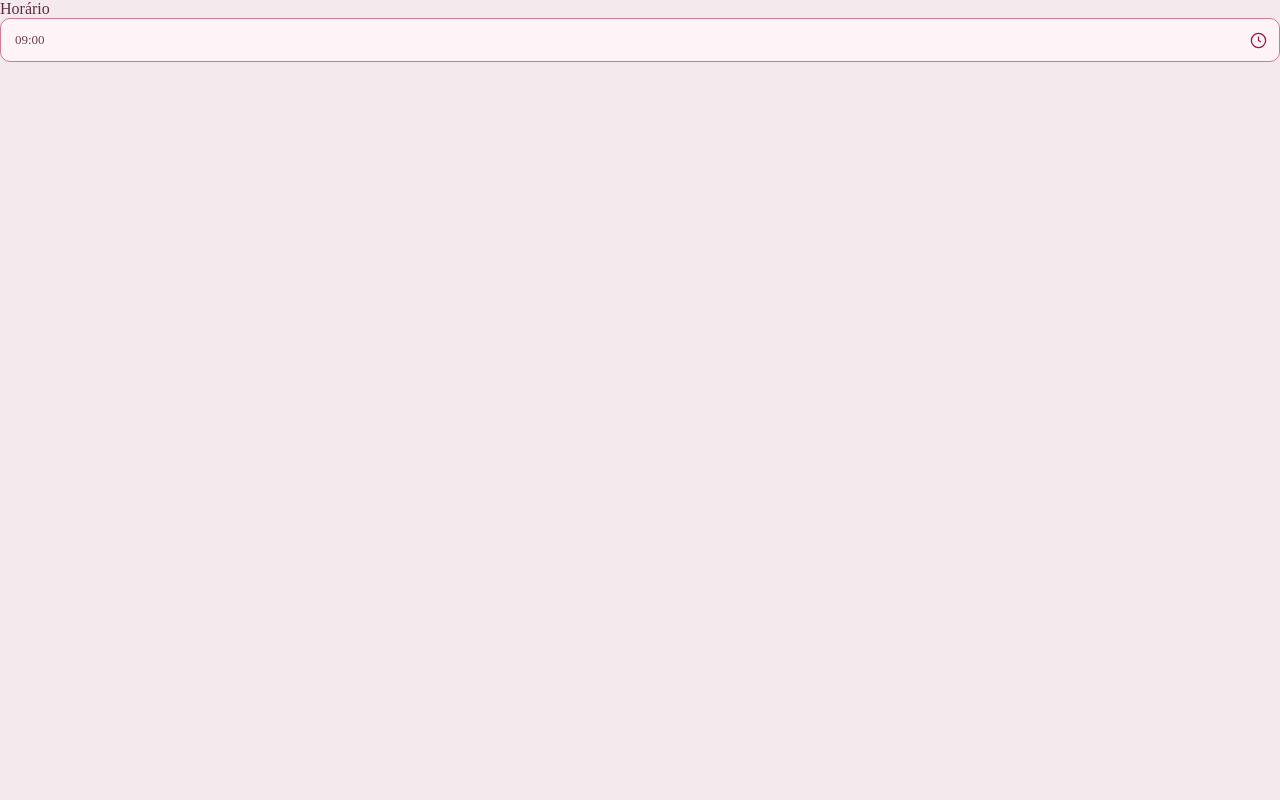
Test: time picker enforces min/max and step while retaining the existing time change handler
The width and height of the screenshot is (1280, 800).
Later steps or results of the test are not shown.
Click the button with class "salon-temporal-open" at x=1258, y=40, box [1239,21,1277,59]
(page scrolled)
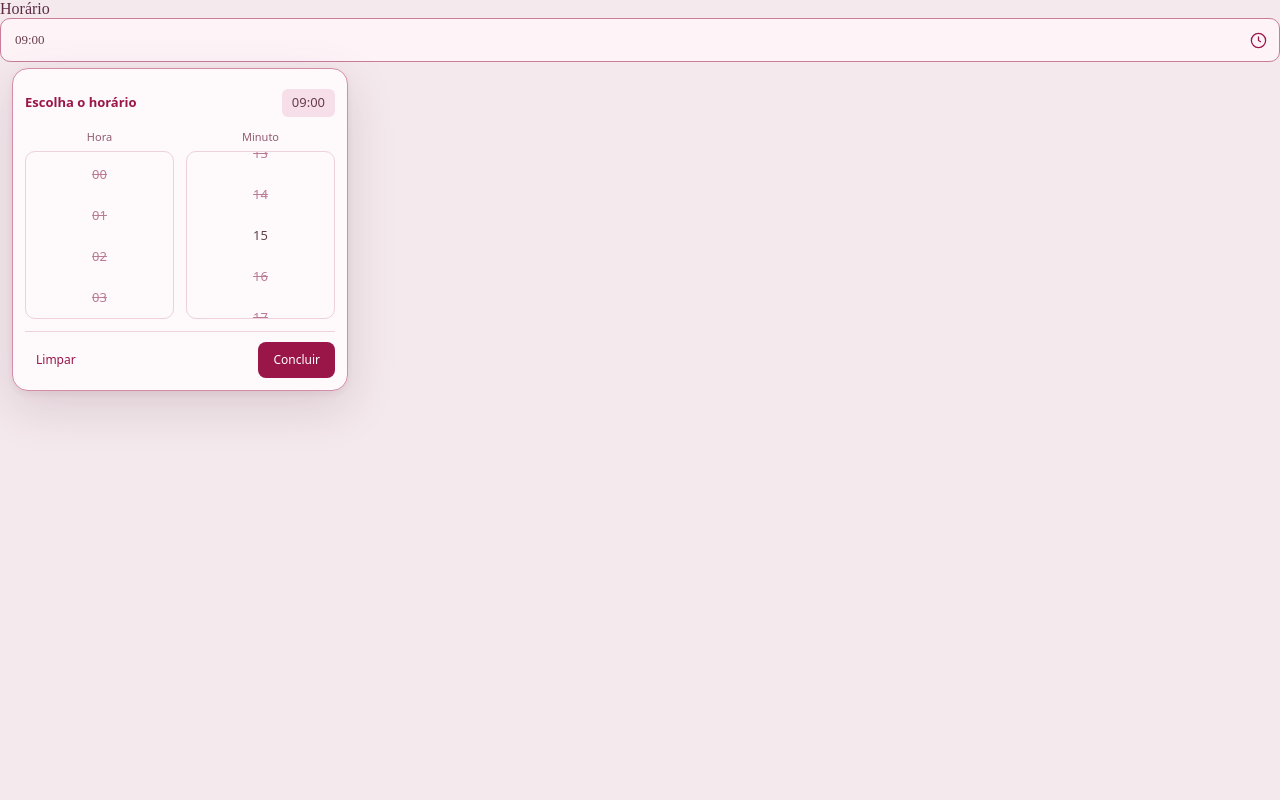
Result: the button "15" is shown at [190,216,331,254]
